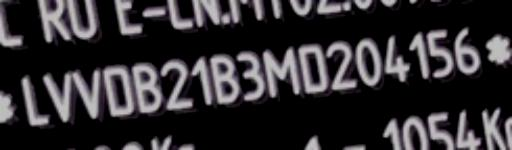letter: (100, 59, 138, 122), (262, 45, 302, 103), (294, 41, 332, 99), (156, 59, 192, 116), (70, 66, 106, 123), (206, 51, 242, 107), (452, 23, 484, 80), (350, 33, 382, 90), (42, 68, 74, 125), (234, 45, 264, 105), (426, 25, 456, 84), (132, 59, 164, 114), (324, 38, 354, 94), (402, 29, 432, 84), (18, 74, 50, 125), (382, 33, 410, 88), (188, 53, 212, 111)
